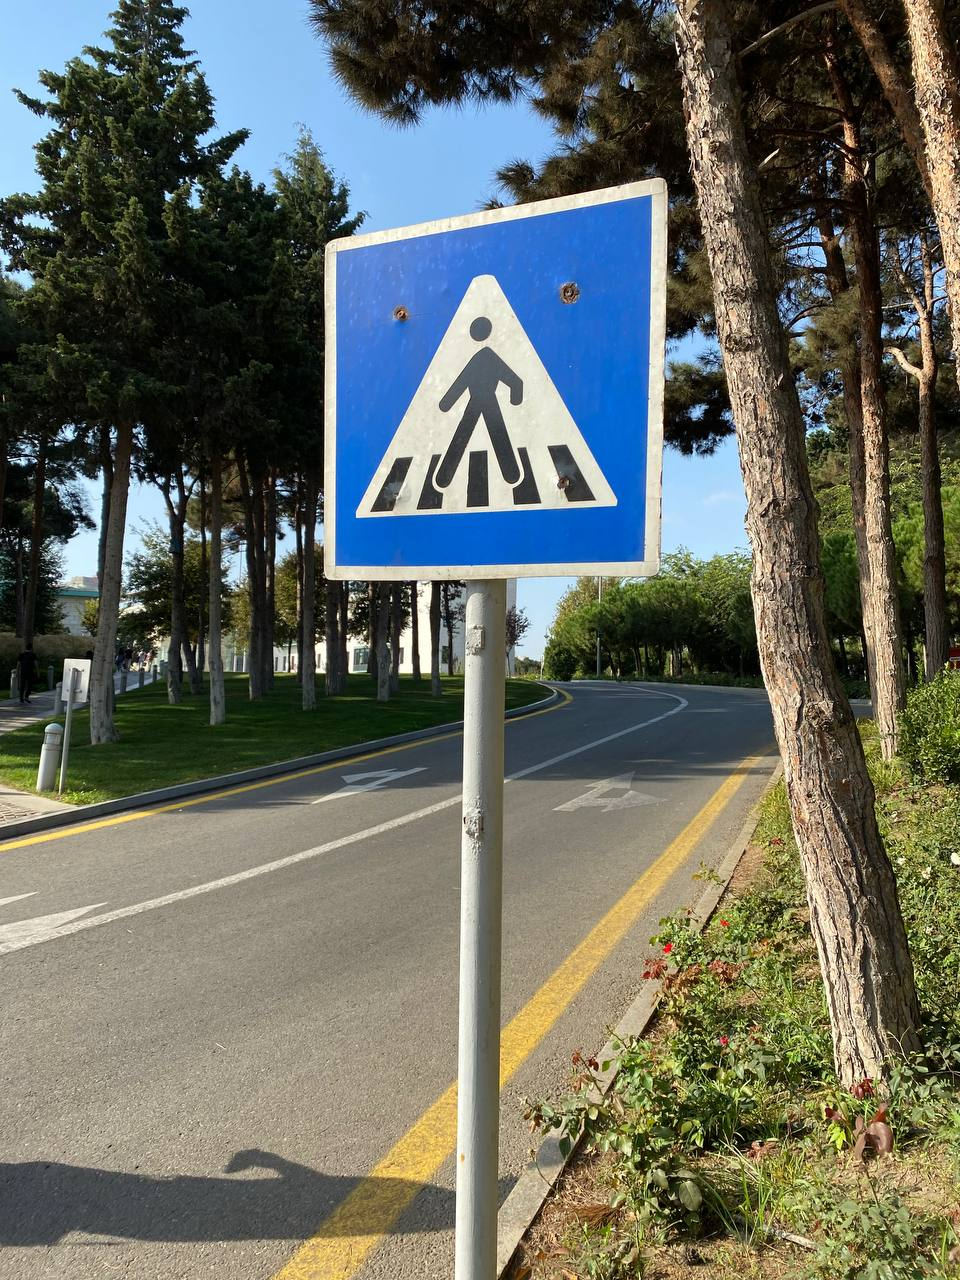Pedestrian Crossing: (319, 175, 668, 583)
